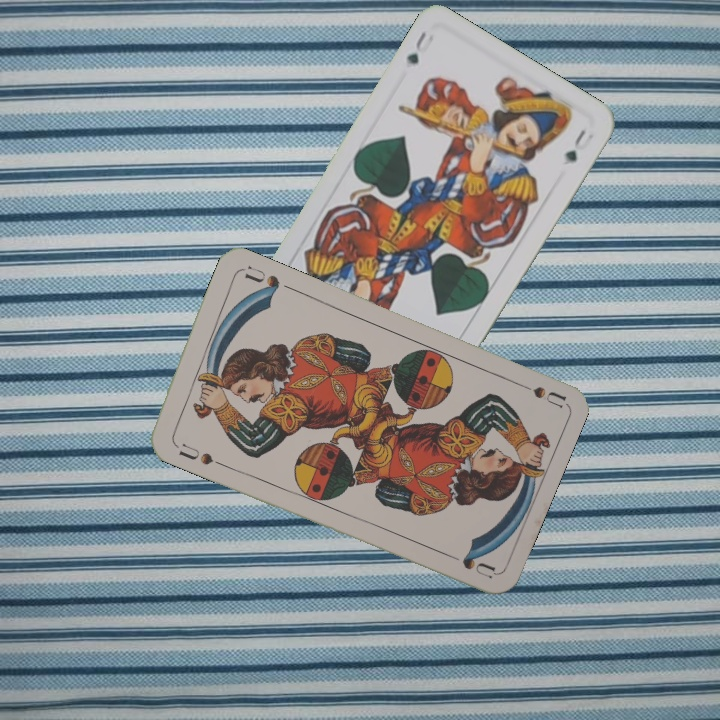GU: (402, 26, 429, 67)
SU: (509, 376, 567, 410), (169, 437, 216, 468)
